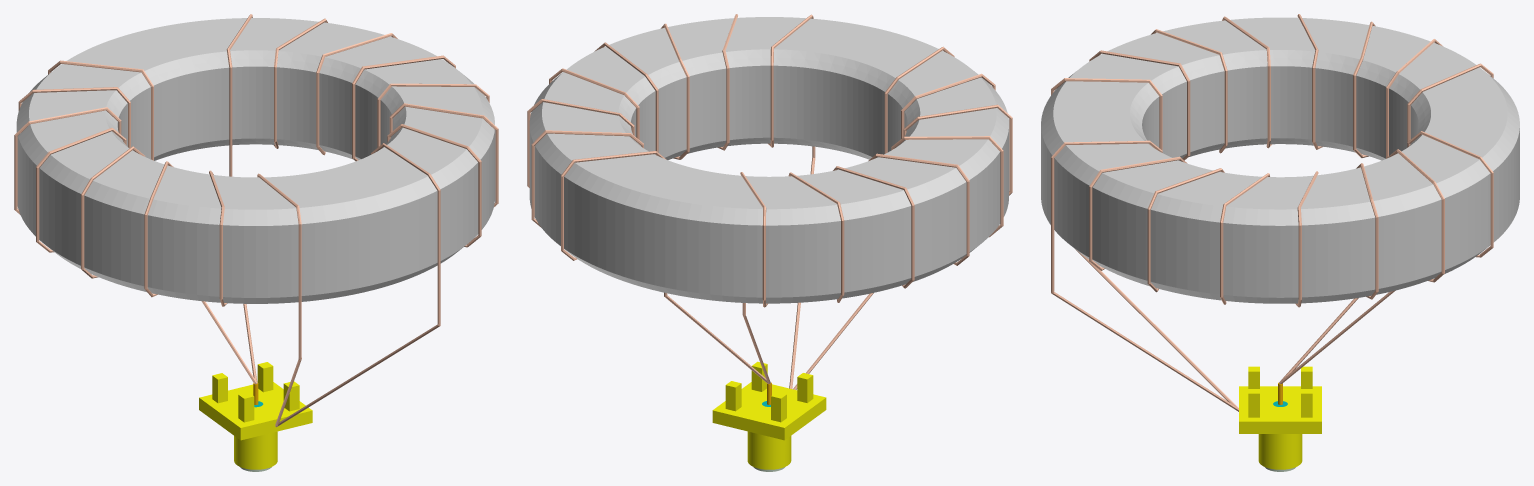
The model's file is CMC.glb.
3 views of the same model, side by side, from view 1: azimuth 30°, elevation 25°; view 2: azimuth 150°, elevation 25°; view 3: azimuth 270°, elevation 25° (orthographic).
Visible parts, largest first — view 1: Node2, Node1, Node3; view 2: Node2, Node1, Node3; view 3: Node2, Node1, Node3.
Part boxes in pixels (<box>): Node2: <box>16,18,494,303</box>; Node1: <box>14,14,498,426</box>; Node3: <box>199,362,312,469</box>; Node2: <box>529,17,1008,303</box>; Node1: <box>527,14,1012,389</box>; Node3: <box>712,361,826,469</box>; Node2: <box>1041,17,1519,303</box>; Node1: <box>1051,14,1493,411</box>; Node3: <box>1239,366,1321,469</box>.
Bounding box in the file's own units: 72.15 × 58.29 × 71.33.
